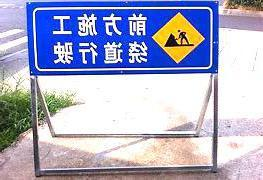sign: (32, 6, 214, 70)
